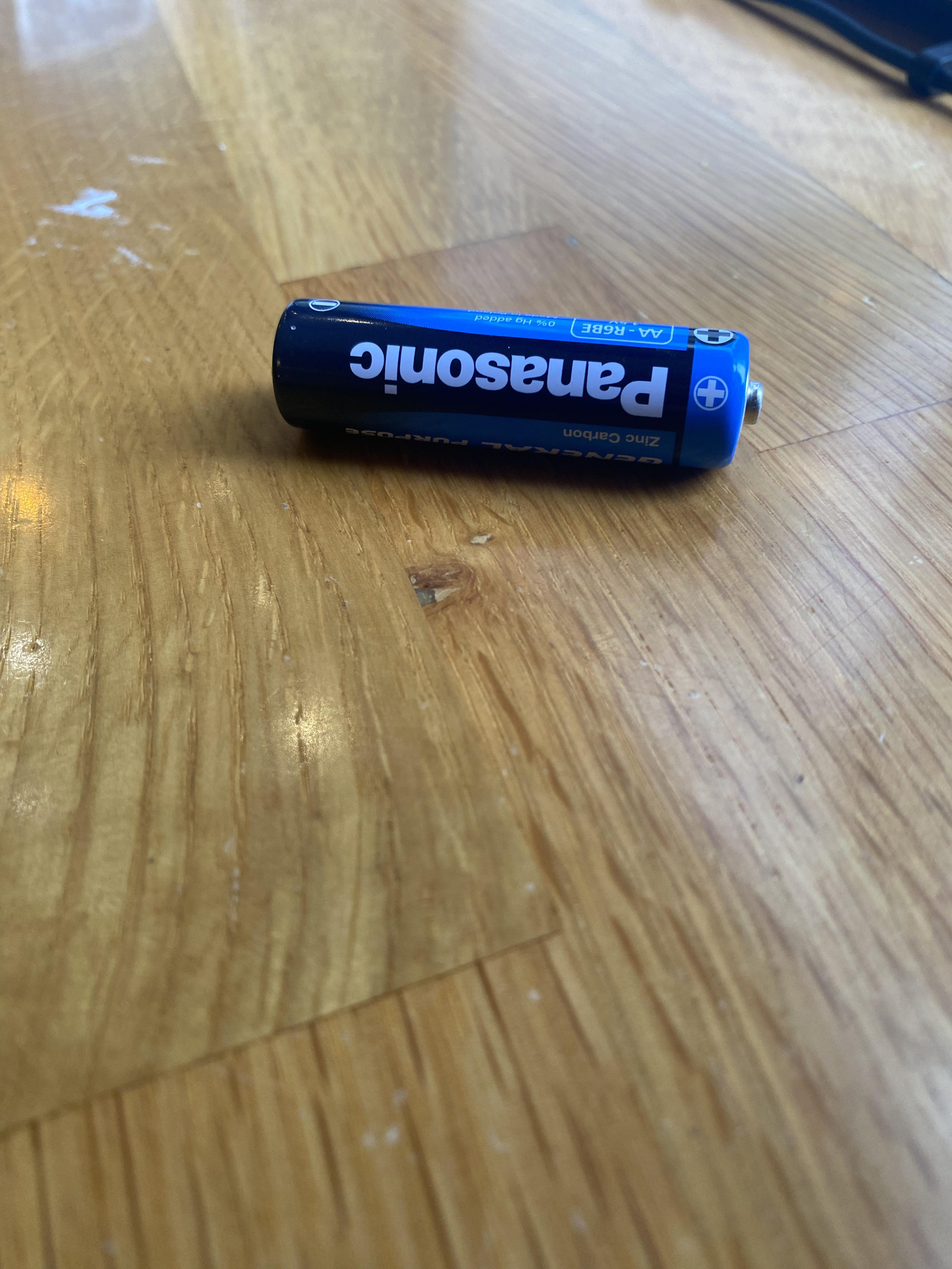AA: (270, 295, 763, 472)
